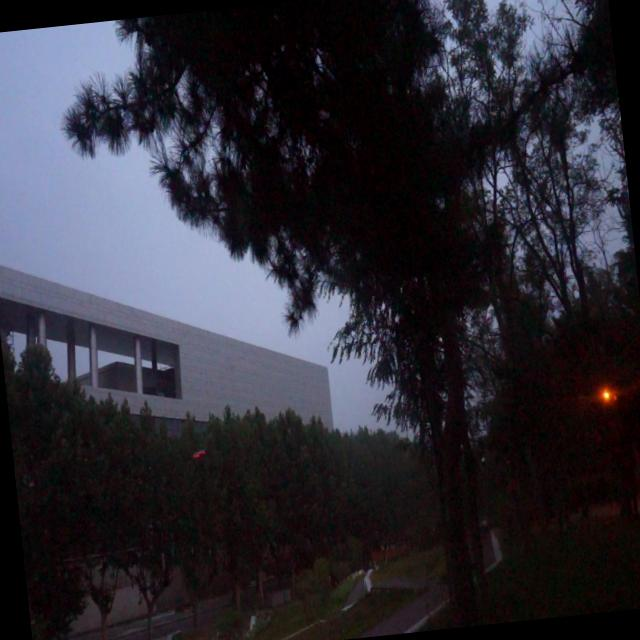drone: (190, 444, 208, 463)
